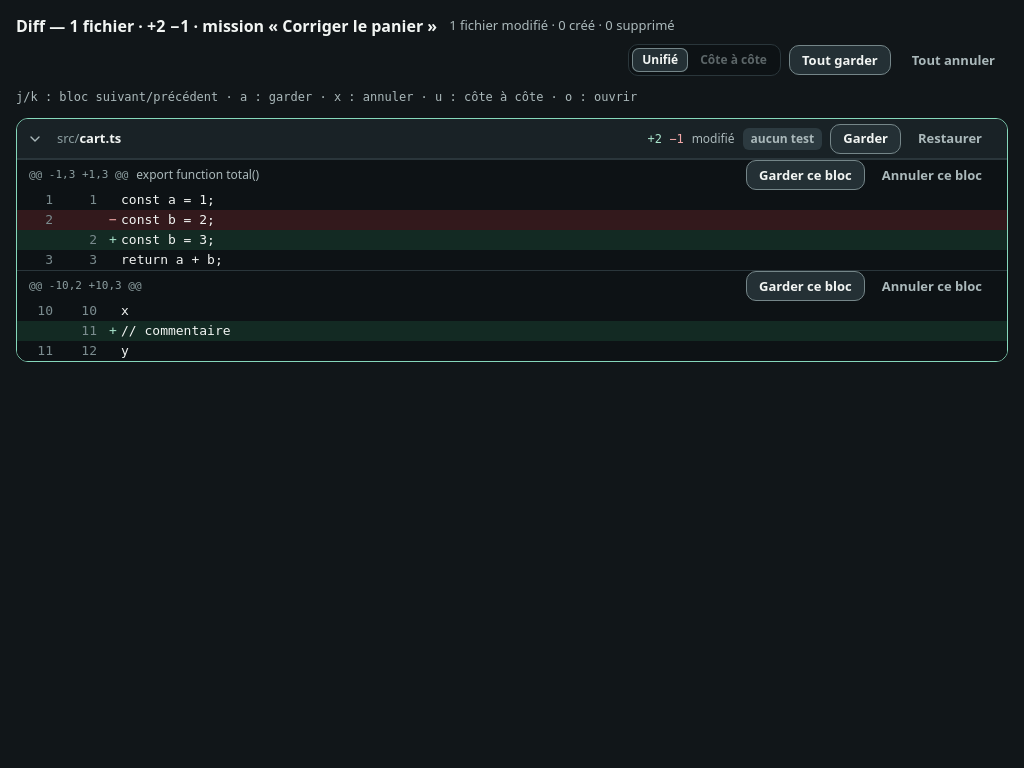
DiffReview › shows a conflict from main instead of claiming the revert happened
expect the element named "Relecture des changements" is shown: met, box [16,118,1008,362]
Click the button "Restaurer": (950, 138) [905,124,995,154]
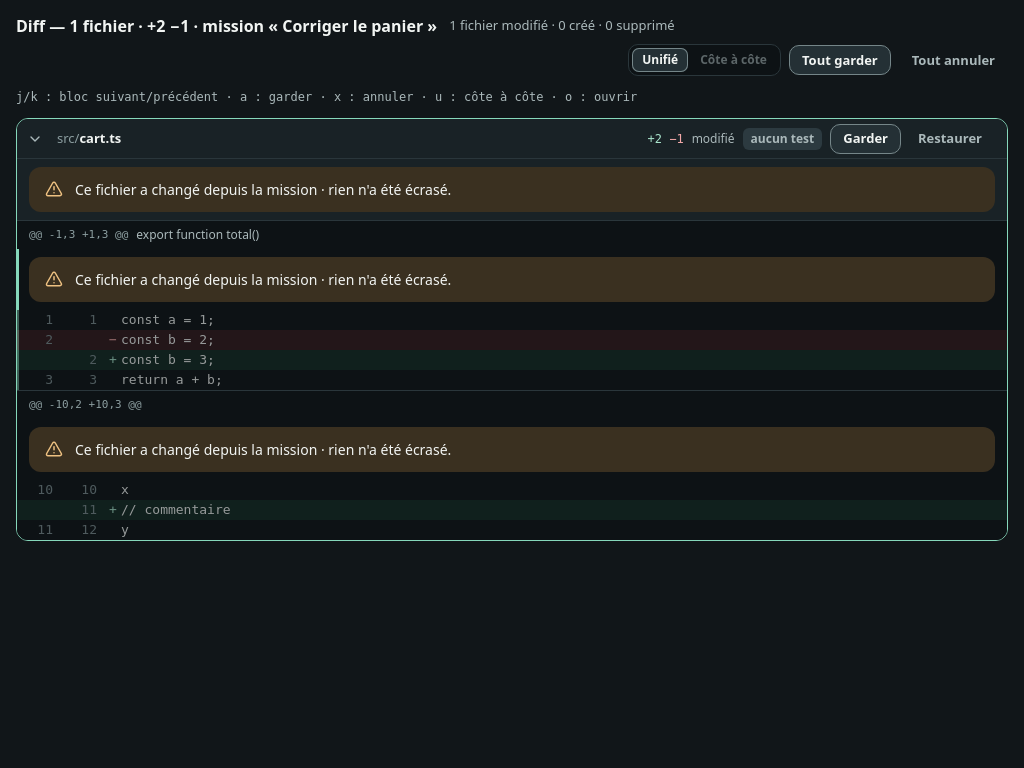
expect the 1st text "Ce fichier a changé depuis la mission · rien n'a été écrasé." is shown: met, box [75,180,451,199]
